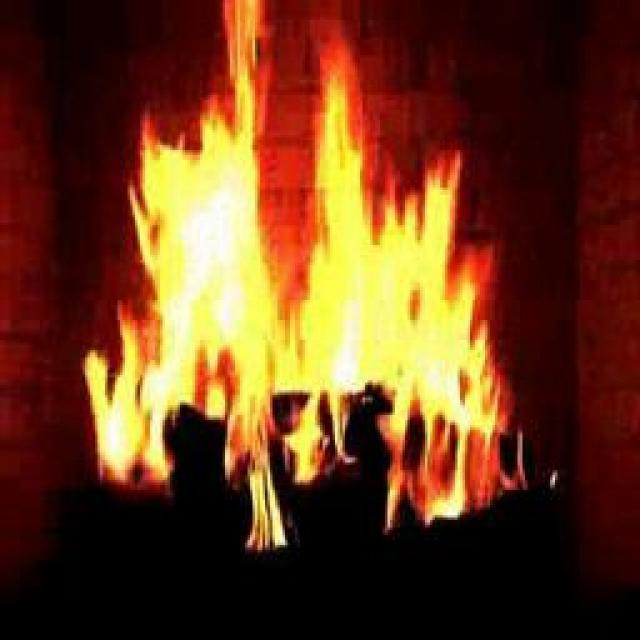Fire: (121, 32, 500, 468)
